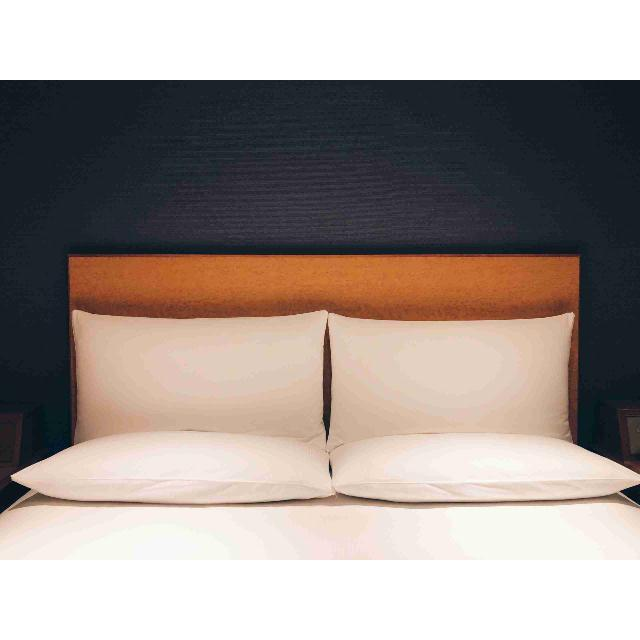bed: (69, 254, 580, 441), (0, 491, 640, 559)
pillow: (70, 307, 331, 444), (331, 308, 576, 449), (72, 310, 326, 444), (328, 312, 574, 449), (12, 431, 334, 503), (8, 432, 332, 502), (330, 432, 640, 502), (331, 436, 640, 506)
